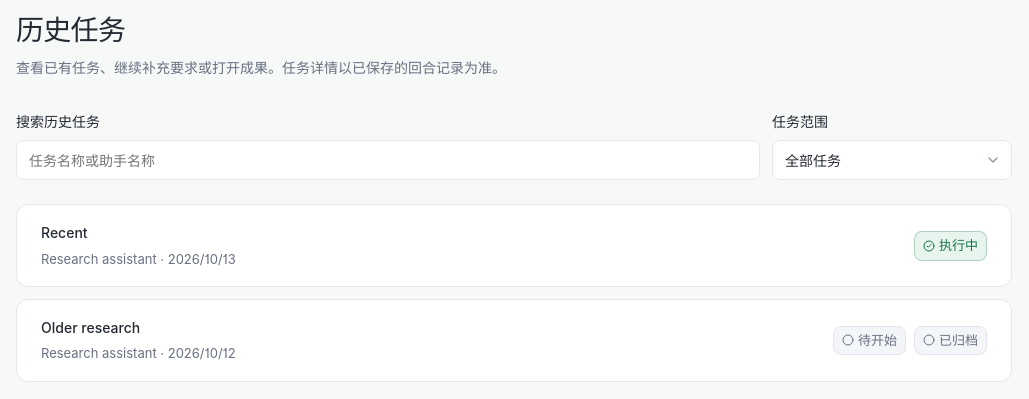
Test: history tasks › orders recent activity, deduplicates tasks, includes archive and excludes deleted records
The image size is (1029, 399).
expect the text "执行中" is shown: met, box top-left (939, 236), bottom-right (978, 256)
expect the text "已归档" is shown: met, box top-left (939, 330), bottom-right (978, 350)
Select "已归档" in the dropdown labelled "任务范围": (892, 160) top-left (772, 140), bottom-right (1012, 180)
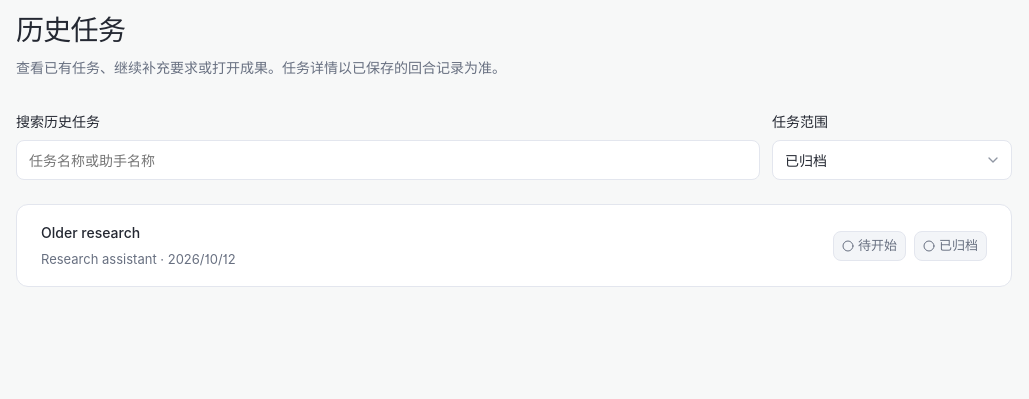
expect the link "Recent" is gone: met
